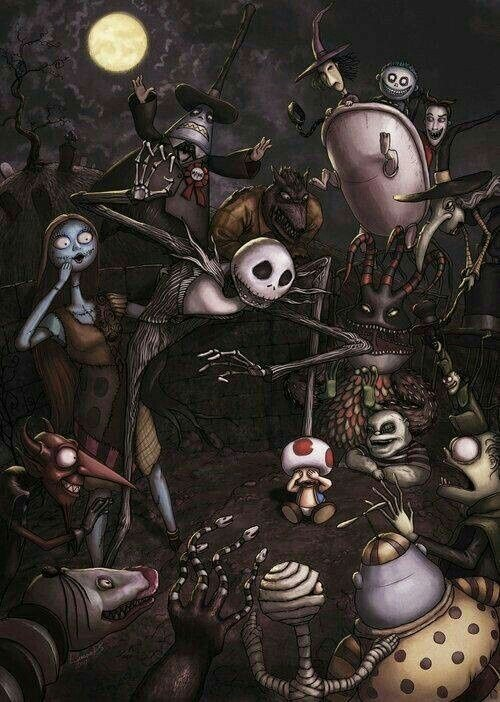Jack Skellington: (70, 140, 376, 570)
